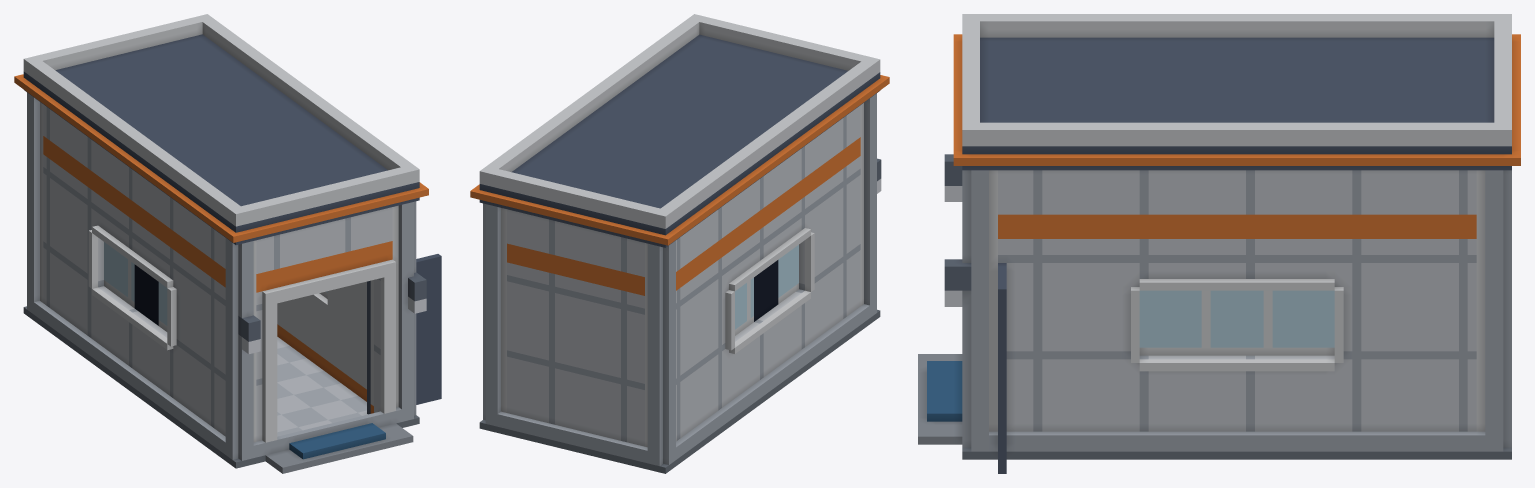
Rendered from control_e3_l2.glb.
3 renders of one model, left to right at view 1: azimuth 30°, elevation 25°; view 2: azimuth 150°, elevation 25°; view 3: azimuth 270°, elevation 25°, orthographic. The views are drawn at different scales.
Parts seen in each view (by area): view 1: CutRoof, Base, CutNX, CutPZ, CutNZ, CutPX; view 2: CutRoof, CutNZ, CutNX, Base, CutPZ; view 3: CutPX, CutRoof, Base, CutPZ, CutNZ.
Part boxes in pixels (bbox=[...]): CutRoof: bbox=[14, 14, 428, 244]; Base: bbox=[23, 254, 441, 473]; CutNX: bbox=[43, 104, 225, 392]; CutPZ: bbox=[225, 201, 441, 404]; CutNZ: bbox=[27, 92, 43, 259]; CutPX: bbox=[301, 281, 366, 345]; CutRoof: bbox=[470, 14, 889, 247]; CutNZ: bbox=[483, 203, 675, 409]; CutNX: bbox=[676, 105, 860, 397]; Base: bbox=[479, 257, 880, 473]; CutPZ: bbox=[860, 93, 881, 261]; CutPX: bbox=[998, 170, 1476, 375]; CutRoof: bbox=[953, 14, 1520, 170]; Base: bbox=[918, 354, 1511, 473]; CutPZ: bbox=[944, 154, 1006, 401]; CutNZ: bbox=[1476, 170, 1511, 379].
Size of the model in its own units: 3.8 by 4.1 by 6.8.
